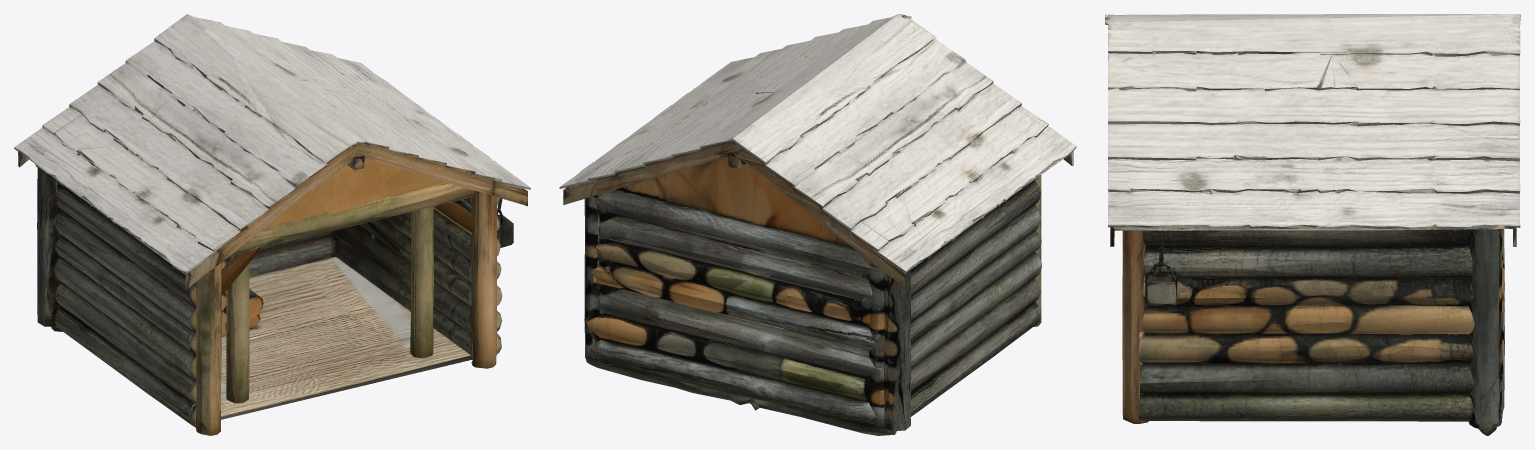
3 views of the same model, side by side, from view 1: azimuth 30°, elevation 25°; view 2: azimuth 150°, elevation 25°; view 3: azimuth 270°, elevation 25° (orthographic). The views are drawn at different scales.
Size of the model in its own units: 1.74 by 1.32 by 1.49.
Materials: 1 (1 with a texture image).
